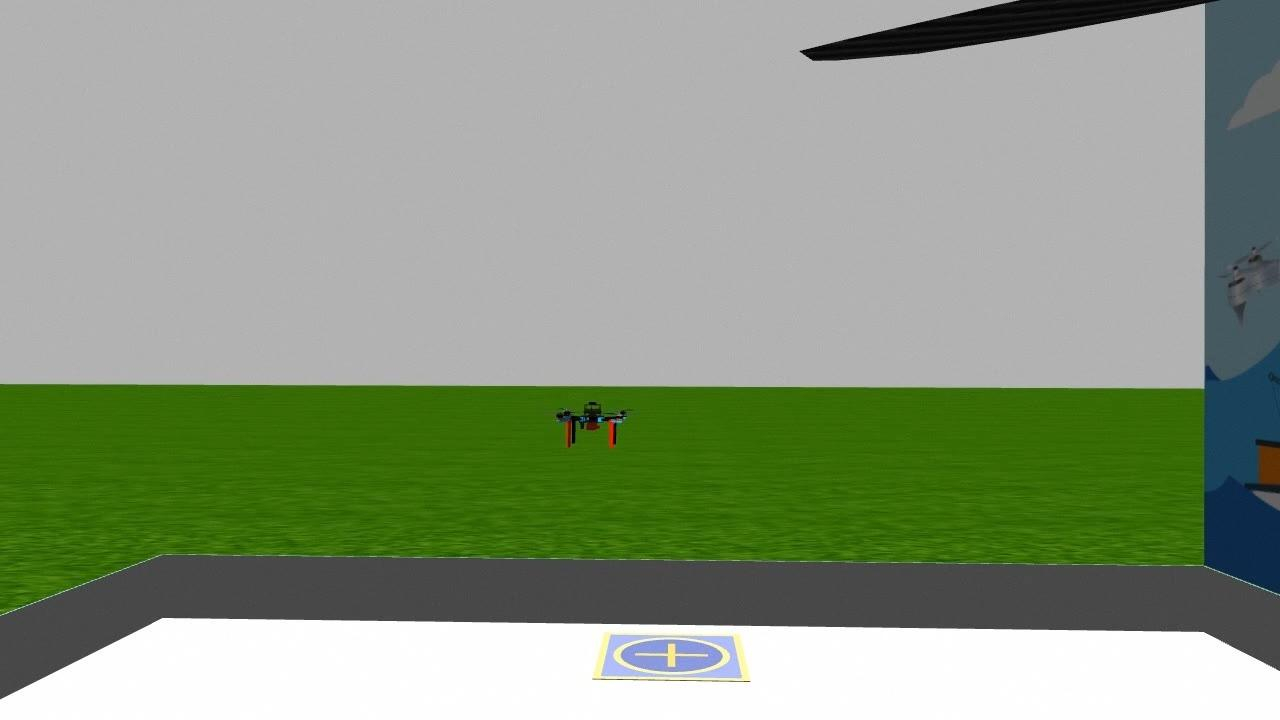UAV: (546, 381, 641, 462)
